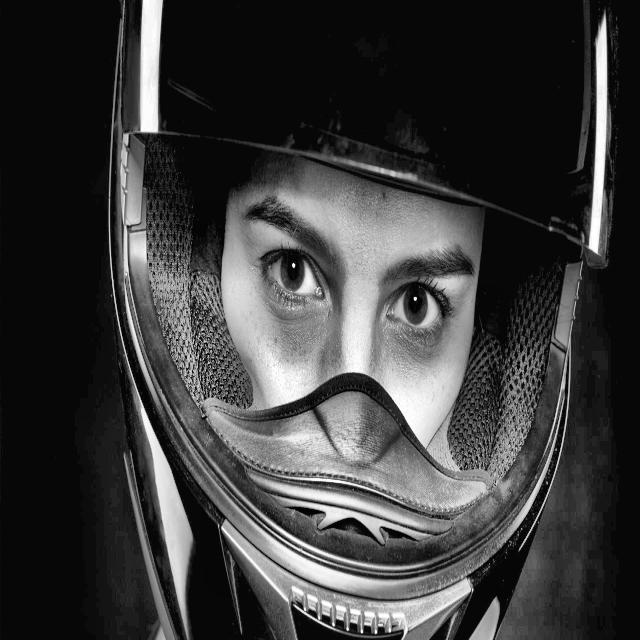Helmet: (104, 0, 616, 638)
